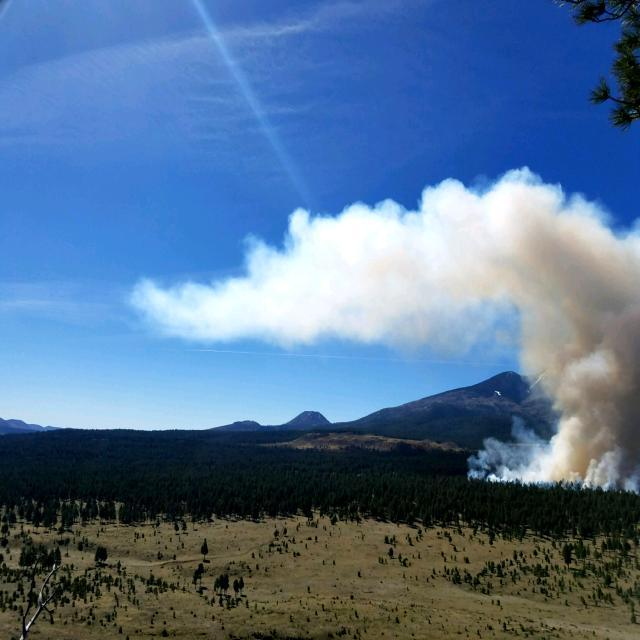Smoke: (444, 162, 640, 493)
